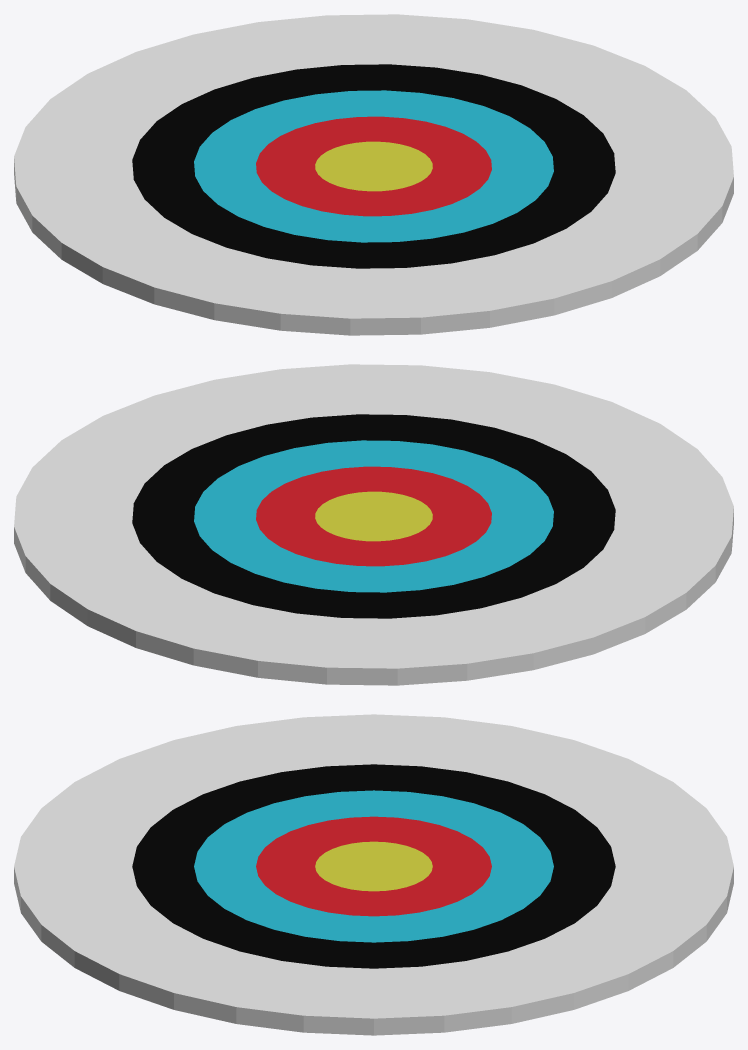
File: alvo_novo.fbx
3 views of the same model, one above another, from view 1: azimuth 30°, elevation 25°; view 2: azimuth 150°, elevation 25°; view 3: azimuth 270°, elevation 25° (orthographic).
Visible parts, largest first — view 1: Branco, Preto, Azul, Vermelho, Branco.001, Amarelo; view 2: Branco, Preto, Azul, Vermelho, Branco.001, Amarelo; view 3: Branco, Preto, Azul, Vermelho, Branco.001, Amarelo.
Boxes of the visible parts, x1,y1,x2,y2 form: Branco: (14, 14, 733, 318); Preto: (132, 64, 615, 268); Azul: (194, 90, 553, 242); Vermelho: (256, 116, 491, 216); Branco.001: (14, 159, 733, 335); Amarelo: (315, 141, 432, 191); Branco: (14, 364, 733, 668); Preto: (132, 414, 615, 618); Azul: (194, 440, 553, 592); Vermelho: (256, 466, 491, 566); Branco.001: (14, 509, 733, 685); Amarelo: (315, 491, 432, 541); Branco: (14, 714, 733, 1018); Preto: (132, 764, 615, 968); Azul: (194, 790, 553, 942); Vermelho: (256, 816, 491, 916); Branco.001: (14, 867, 733, 1035); Amarelo: (315, 841, 432, 891).
Bounding box in the file's own units: 1193 × 30.97 × 1193.
